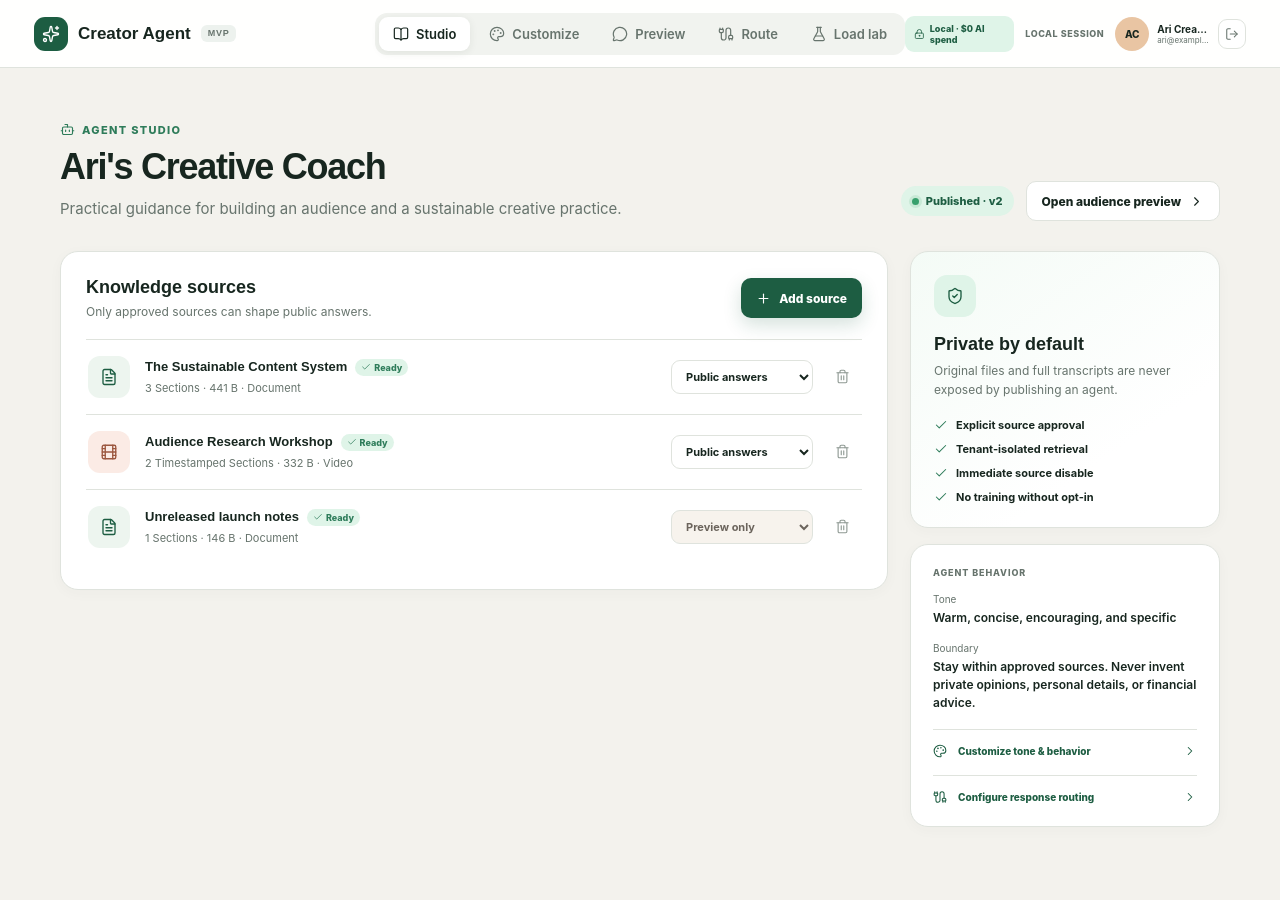
Test: Creator Agent simulator › shows source privacy controls and opens the isolated audience preview
The image size is (1280, 900).
Expected: the heading "Private by default" is shown, [934,334,1084,354]
Expected: the heading "Unreleased launch notes" is shown, [145,509,299,526]
Step 1. Click the button "Open audience preview" → [1123, 201], box [1026,181,1220,221]
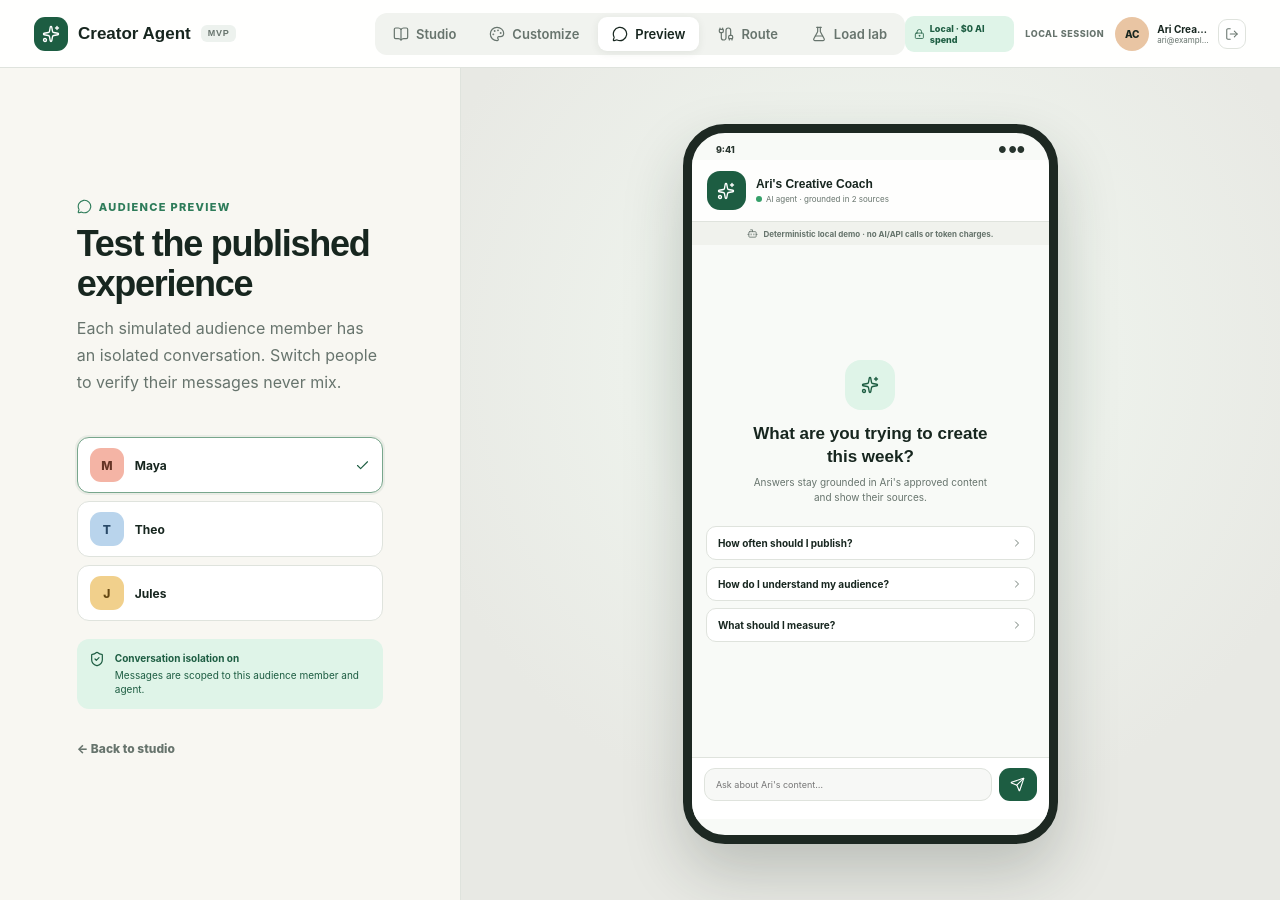
Expected: the heading "Test the published experience" is shown, [77,224,383,305]
Expected: the text "Conversation isolation on" is shown, [115,652,239,664]
